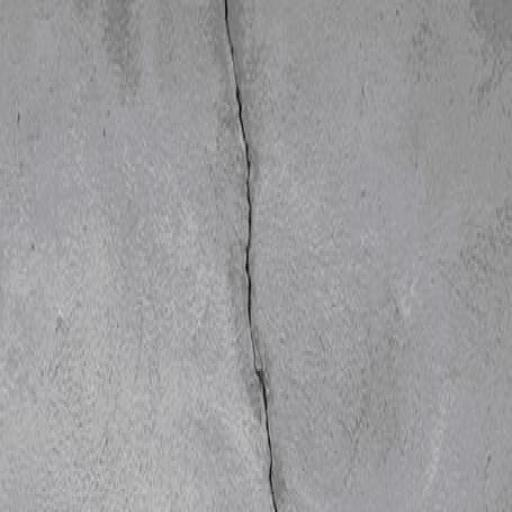spalling: (219, 3, 284, 506)
